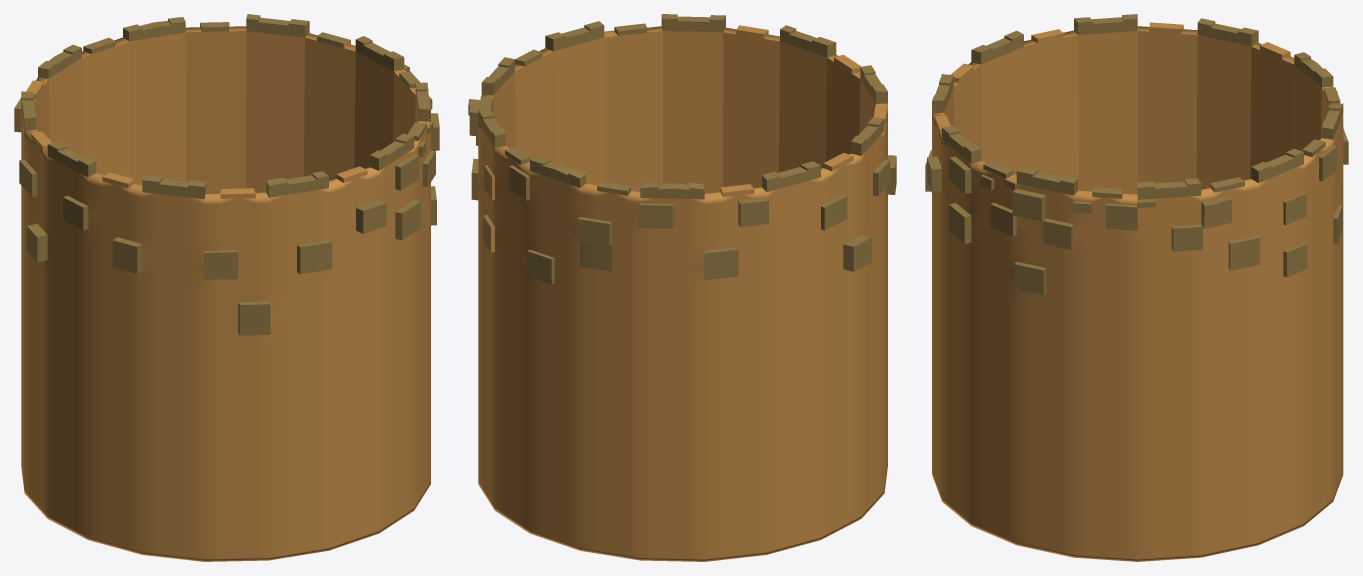
Rendered from outerwall3.fbx.
3 renders of one model, left to right at view 1: azimuth 30°, elevation 25°; view 2: azimuth 150°, elevation 25°; view 3: azimuth 270°, elevation 25°, orthographic.
Parts seen in each view (by area): view 1: pCylinder2; view 2: pCylinder2; view 3: pCylinder2.
Boxes of the visible parts, left/top/right/bottom form: pCylinder2: left=14, top=14, right=439, bottom=561; pCylinder2: left=468, top=14, right=896, bottom=561; pCylinder2: left=925, top=14, right=1348, bottom=561.
Bounding box in the file's own units: 2092 × 2013 × 2057.
